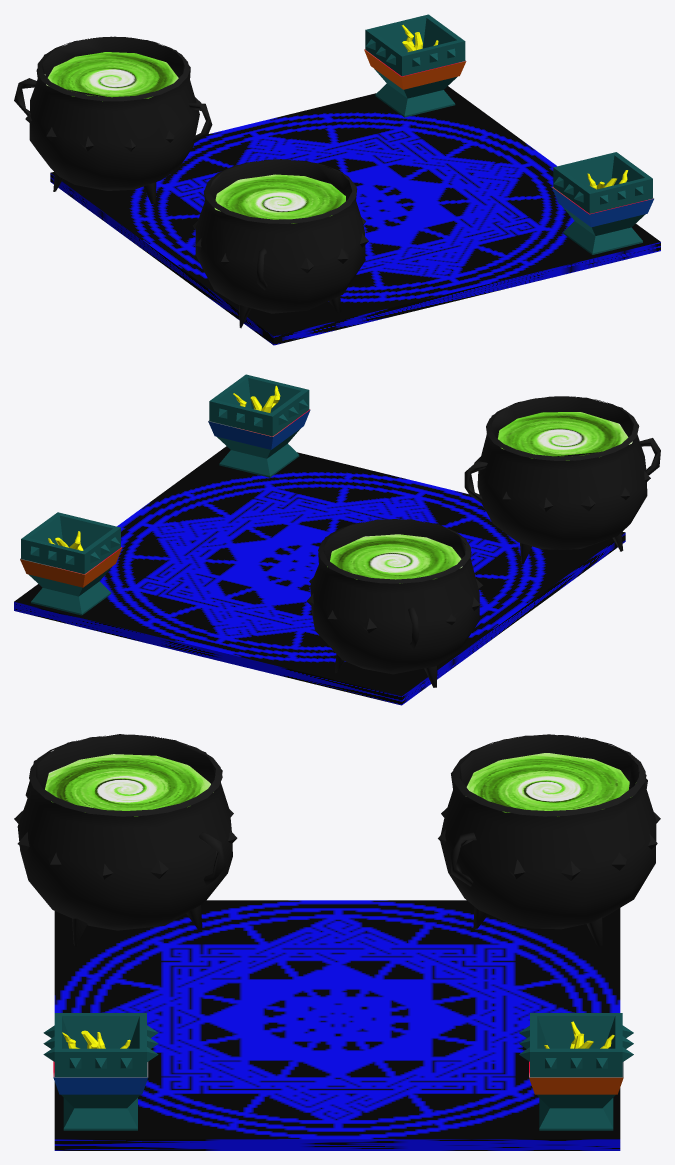
Rendered from shaman_environmentRune.obj.
3 renders of one model, top to bottom at view 1: azimuth 30°, elevation 25°; view 2: azimuth 150°, elevation 25°; view 3: azimuth 270°, elevation 25°, orthographic. The views are drawn at different scales.
Visible parts, largest first — view 1: Cube_Cube.001, cauldron, cauldron.001, Brazzer_Cube.010, Brazzer.001_Cube.002, broth.001, broth; view 2: Cube_Cube.001, cauldron.001, cauldron, Brazzer.001_Cube.002, Brazzer_Cube.010, broth, broth.001; view 3: Cube_Cube.001, cauldron, cauldron.001, Brazzer_Cube.010, Brazzer.001_Cube.002, broth.001, broth.
Boxes of the visible parts, x1=… form: Cube_Cube.001: x1=50, y1=86, x2=660, y2=345; cauldron: x1=14, y1=36, x2=212, y2=203; cauldron.001: x1=192, y1=159, x2=368, y2=328; Brazzer_Cube.010: x1=552, y1=152, x2=653, y2=254; Brazzer.001_Cube.002: x1=364, y1=14, x2=466, y2=117; broth.001: x1=214, y1=174, x2=345, y2=223; broth: x1=44, y1=52, x2=178, y2=101; Cube_Cube.001: x1=14, y1=446, x2=625, y2=705; cauldron.001: x1=464, y1=396, x2=660, y2=564; cauldron: x1=306, y1=519, x2=482, y2=687; Brazzer.001_Cube.002: x1=20, y1=512, x2=122, y2=615; Brazzer_Cube.010: x1=208, y1=374, x2=310, y2=477; broth: x1=327, y1=534, x2=462, y2=583; broth.001: x1=498, y1=412, x2=632, y2=460; Cube_Cube.001: x1=54, y1=900, x2=620, y2=1150; cauldron: x1=438, y1=734, x2=660, y2=946; cauldron.001: x1=14, y1=734, x2=237, y2=946; Brazzer_Cube.010: x1=43, y1=1013, x2=158, y2=1130; Brazzer.001_Cube.002: x1=519, y1=1013, x2=633, y2=1130; broth.001: x1=45, y1=754, x2=213, y2=816; broth: x1=466, y1=753, x2=630, y2=816.
Bounding box in the file's own units: 80.01 × 22.68 × 82.65.
4 materials, 4 textured.
